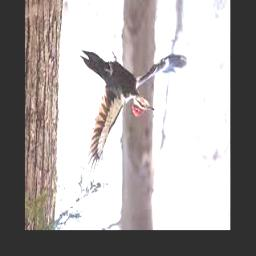Woodpecker: (80, 51, 188, 179)
